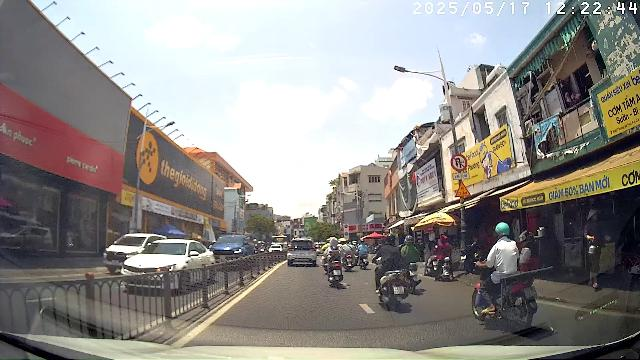124b-cam-oto-quay-dau-xe: (450, 152, 468, 172)
